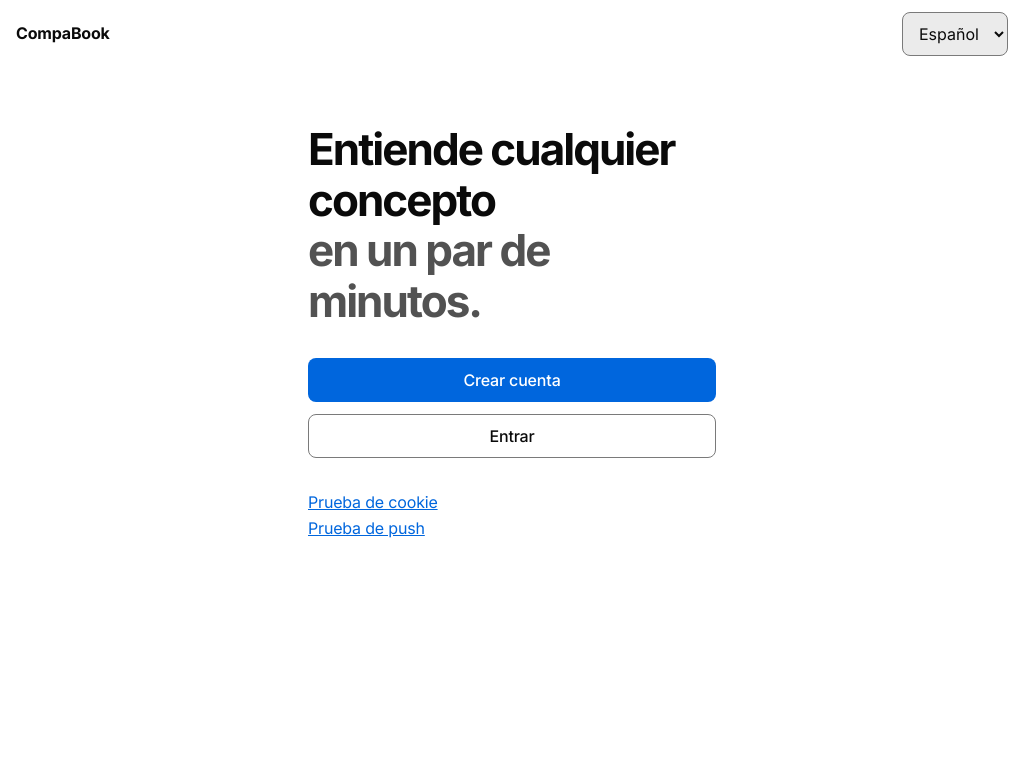
Test case: bienvenida › el selector de idioma cambia los textos y el atributo lang
Select "English" in the dropdown named "Idioma de la web". click: (955, 34)
box: [902,12,1008,56]
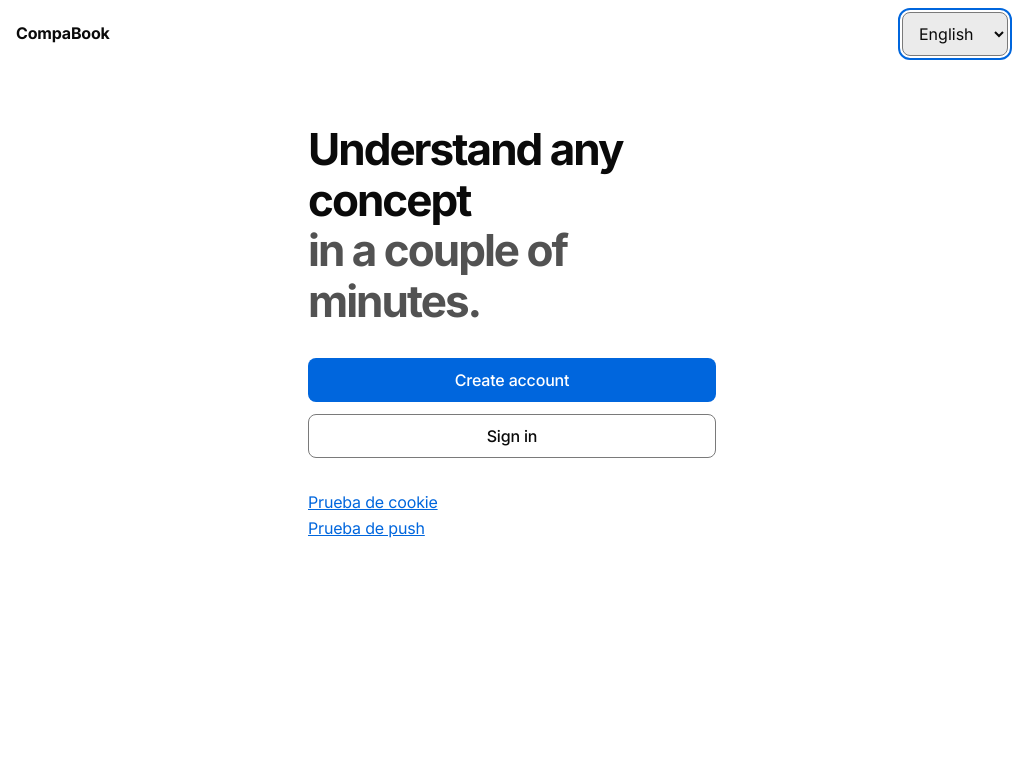
Check: the link "Create account" is shown, box [308,358,716,402]
